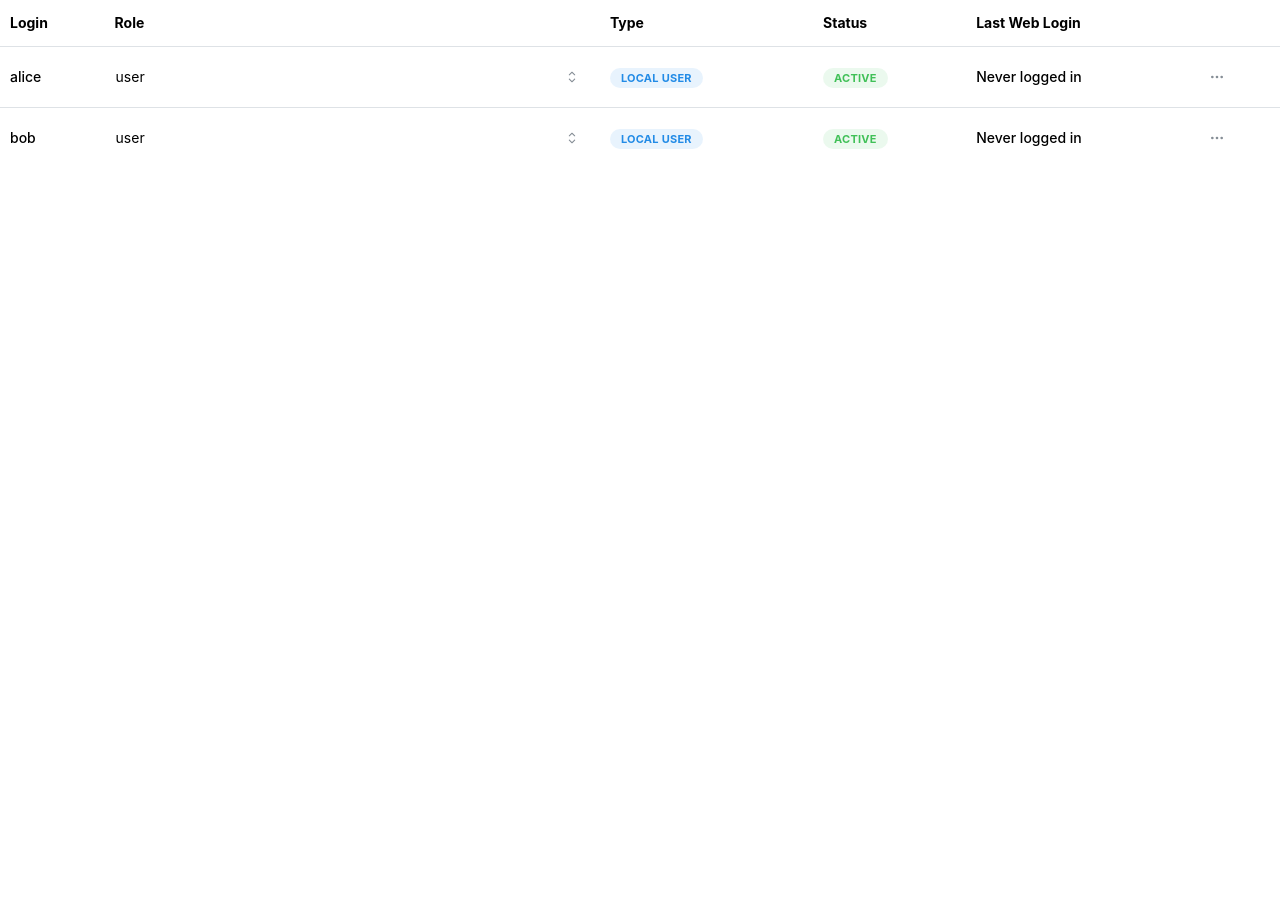
Test: ListUsers › change password modal › submits the password for the selected user
Click the button without text in the row of "bob" at (1217, 138), box [1203,124,1231,152]
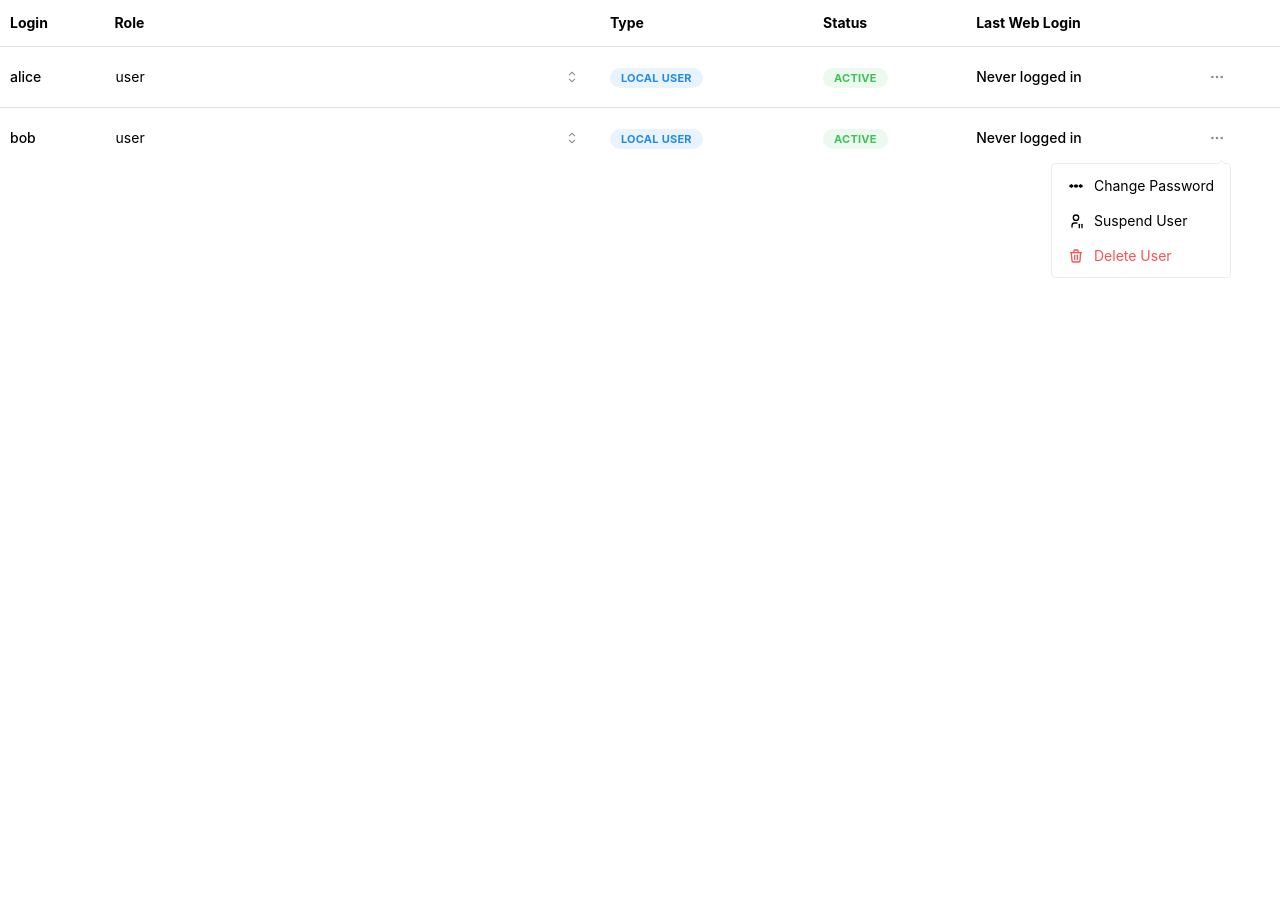
Click the menu item "Change Password" at (1141, 186), box [1056,168,1226,203]
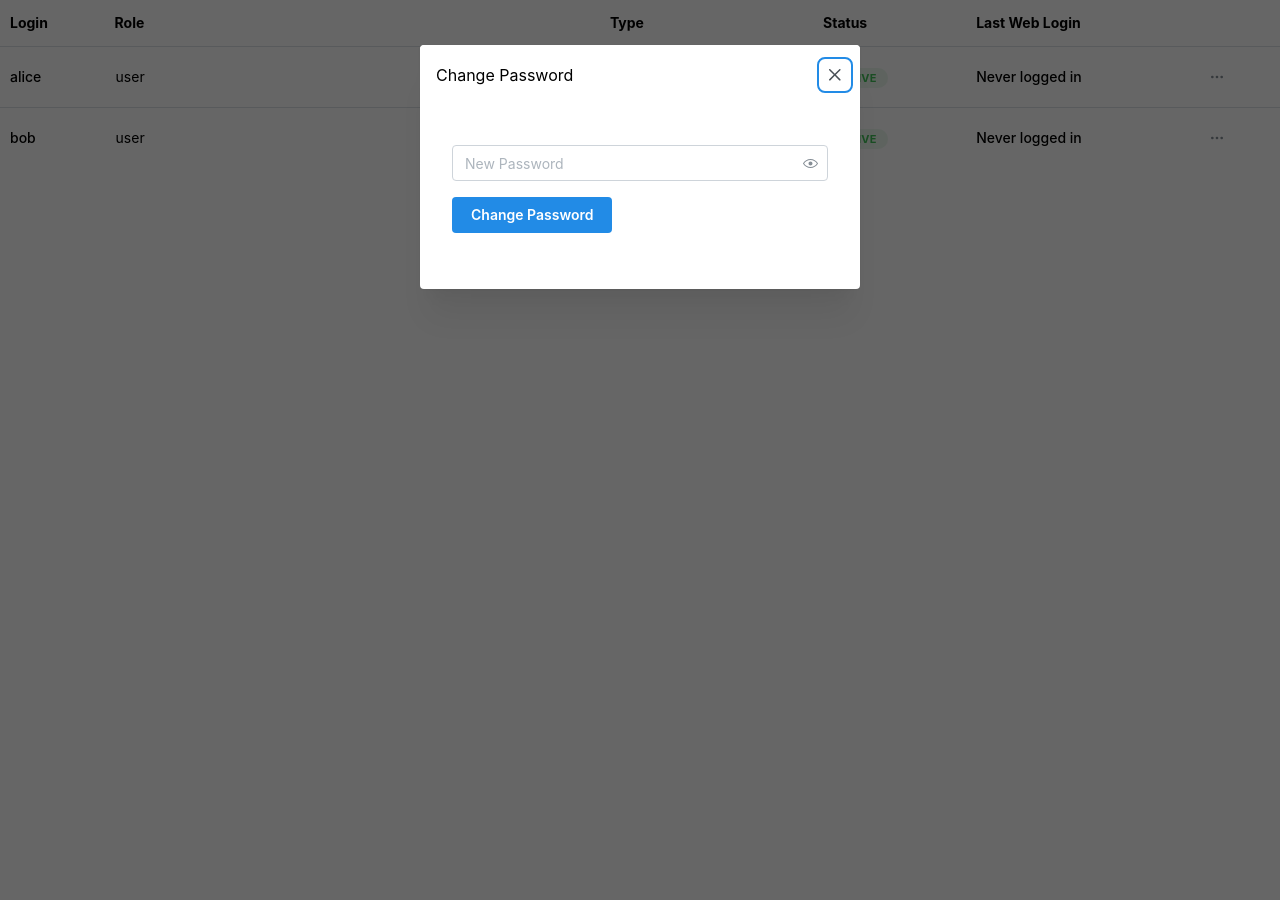
Type "newpass1!" into the password field with placeholder "New Password" at (640, 163), box [453,146,827,180]
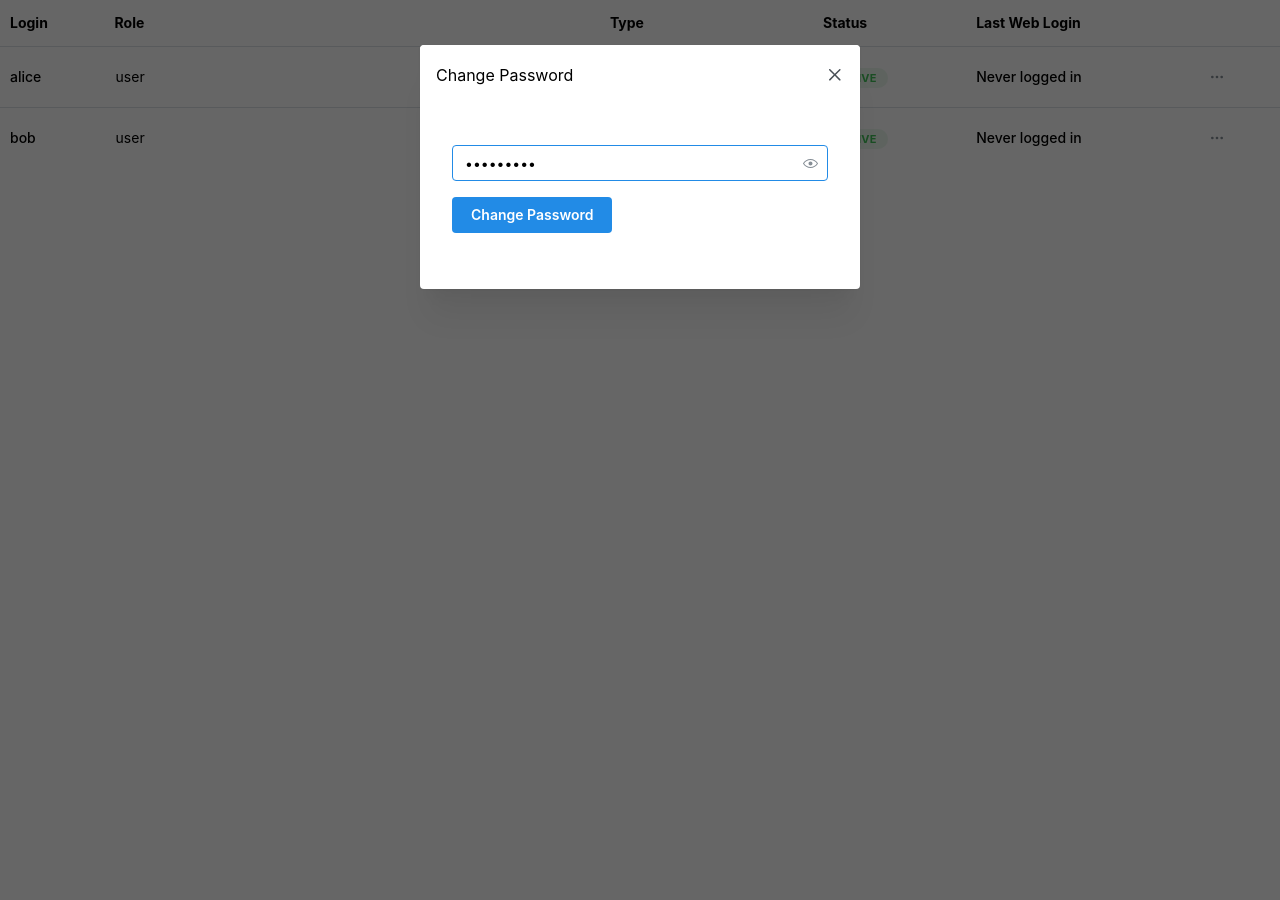
Click the button "Change Password" at (532, 215), box [452,197,612,233]
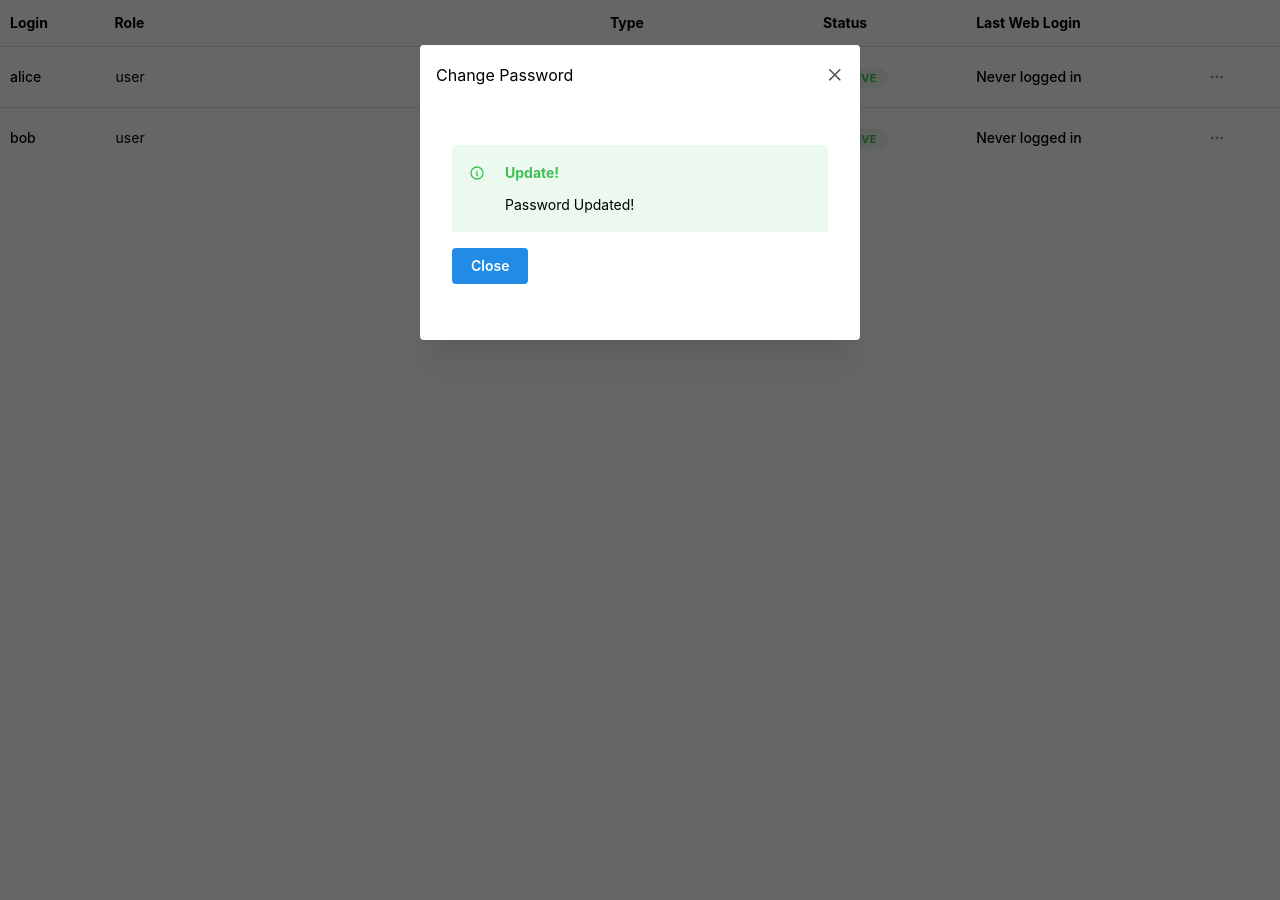
Expected: the text "Password Updated!" is shown, [505,196,634,213]
